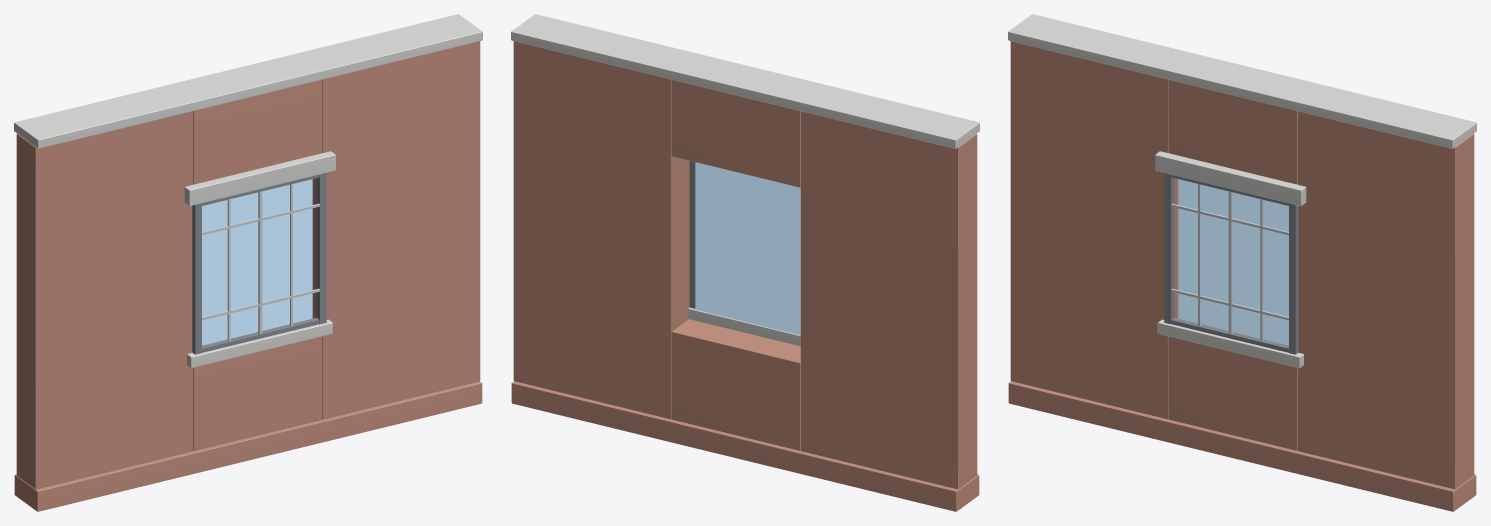
The model's file is Brick_Window.fbx.
The picture shows the model from 3 angles, left to right: view 1: azimuth 30°, elevation 25°; view 2: azimuth 150°, elevation 25°; view 3: azimuth 330°, elevation 25°; orthographic projection.
Parts seen in each view (by area): view 1: LOD0; view 2: LOD0; view 3: LOD0.
Boxes of the visible parts, bbox=[...] form: LOD0: bbox=[14, 14, 482, 511]; LOD0: bbox=[511, 14, 979, 511]; LOD0: bbox=[1008, 14, 1476, 511].
Size of what is drawn, in the model's own units: 400 by 320 by 41.5.
